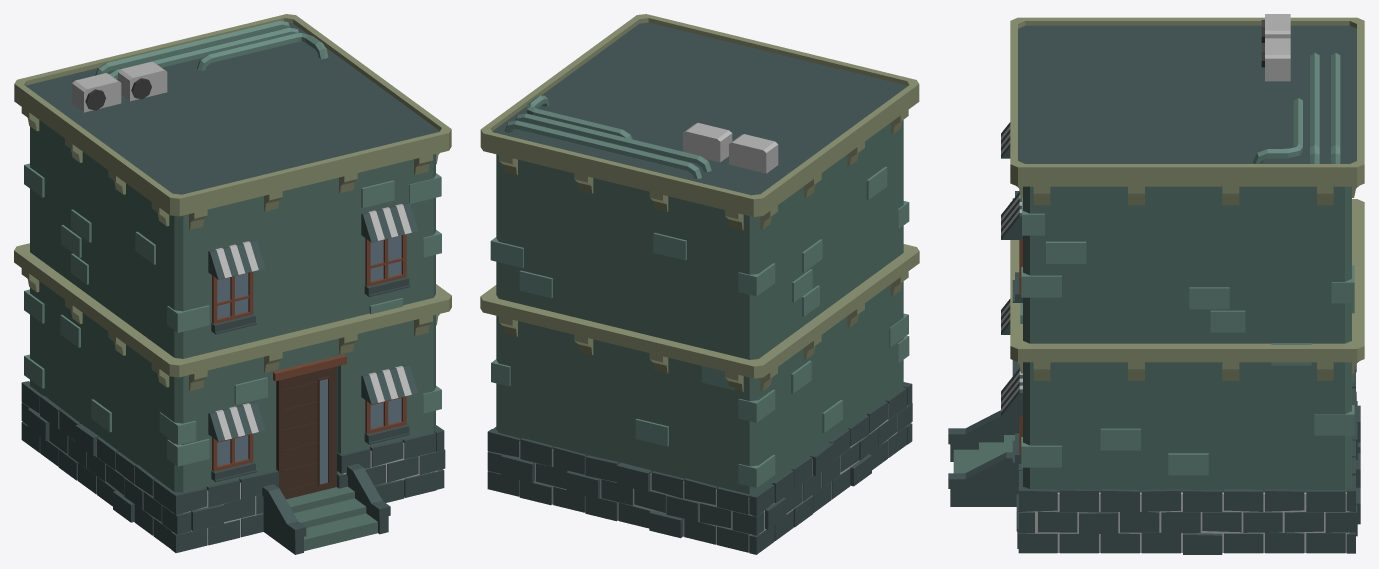
Rendered from 2Story_Mat.glb.
The picture shows the model from 3 angles, left to right: view 1: azimuth 30°, elevation 25°; view 2: azimuth 150°, elevation 25°; view 3: azimuth 270°, elevation 25°; orthographic projection. The views are drawn at different scales.
Parts seen in each view (by area): view 1: 2Story_Mat; view 2: 2Story_Mat; view 3: 2Story_Mat.
Boxes of the visible parts, x1,y1,x2,y2 form: 2Story_Mat: [14, 14, 451, 554]; 2Story_Mat: [480, 14, 919, 554]; 2Story_Mat: [948, 14, 1364, 554].
Bounding box in the file's own units: 2.16 × 2.75 × 2.53.
